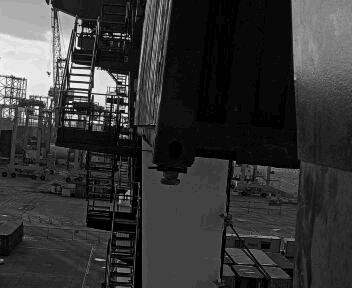twist_lock_1: (144, 136, 166, 160)
